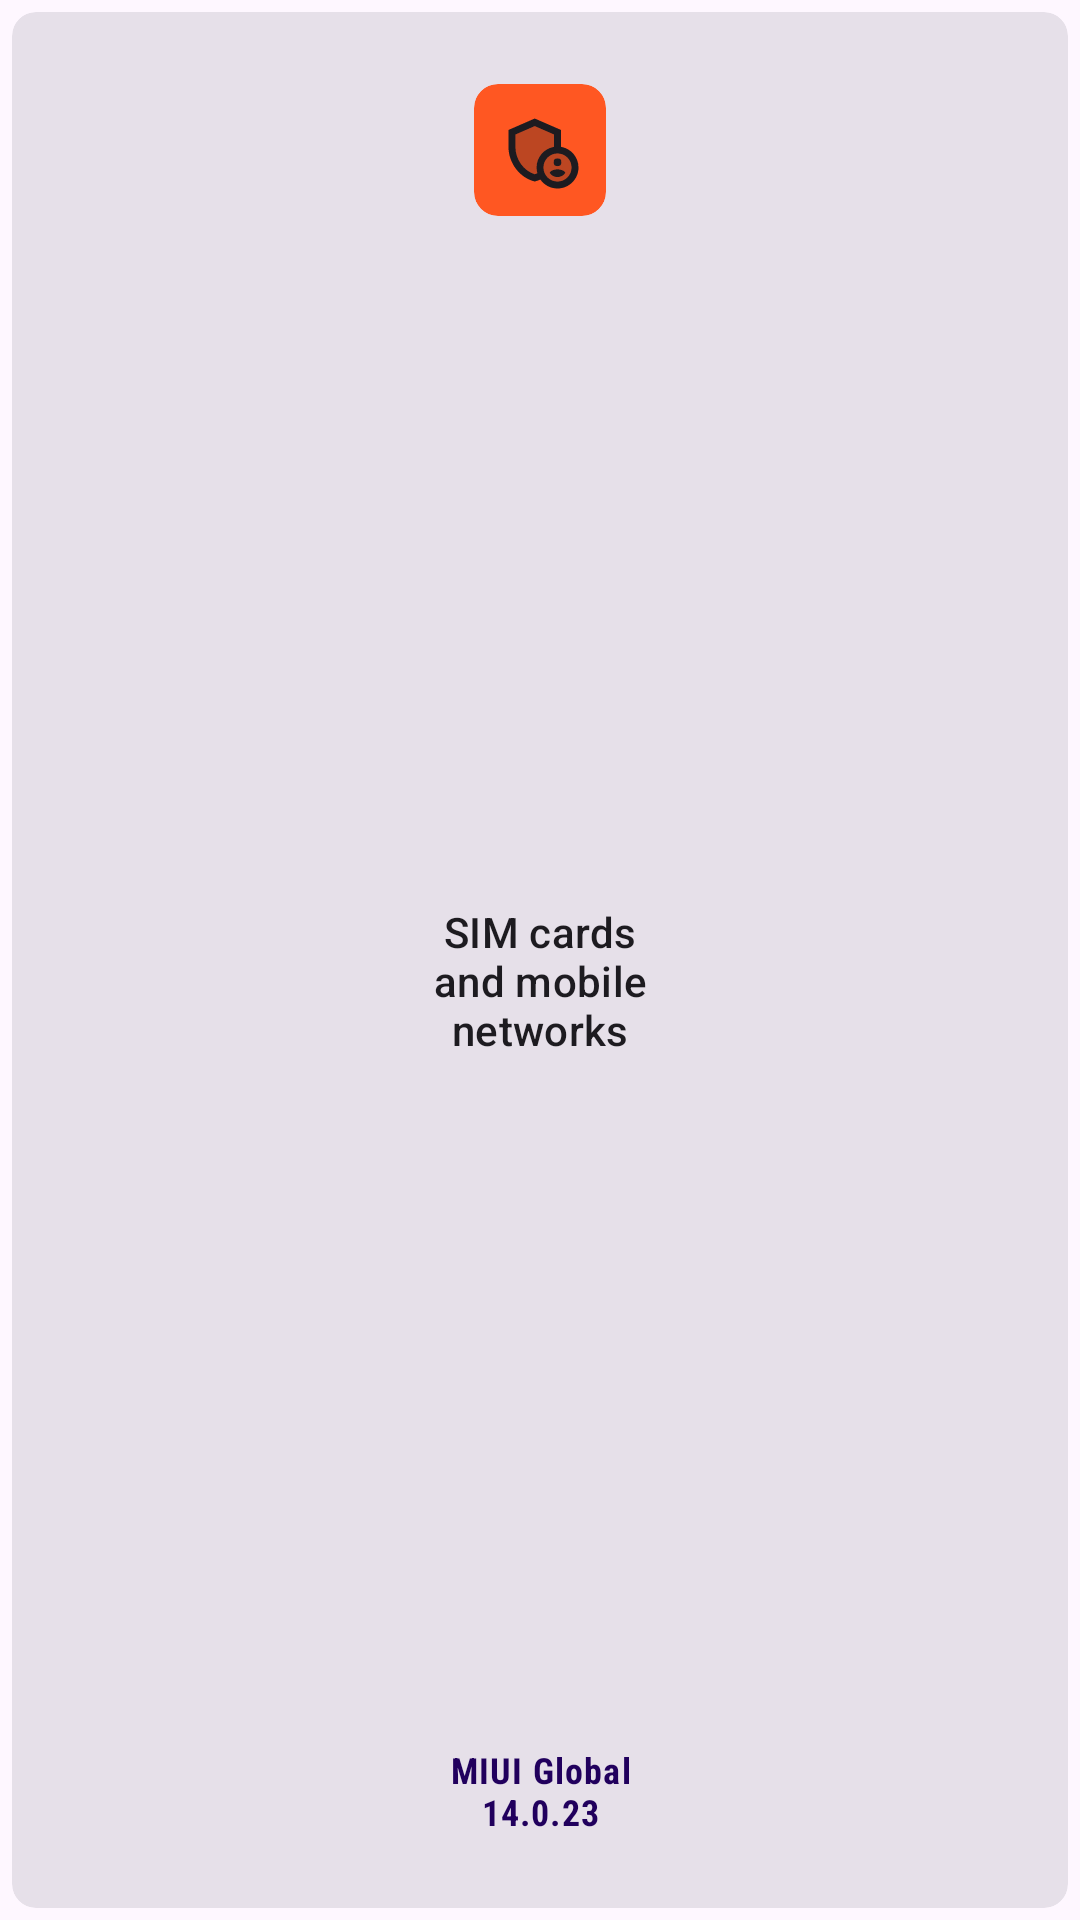

Icon bounding boxes for this 1080*1920 phone screenshot, format (x1=x1, y1=y1, x2=x2, y2=y2):
admin panel settings: (x1=508, y1=118, x2=579, y2=189)
